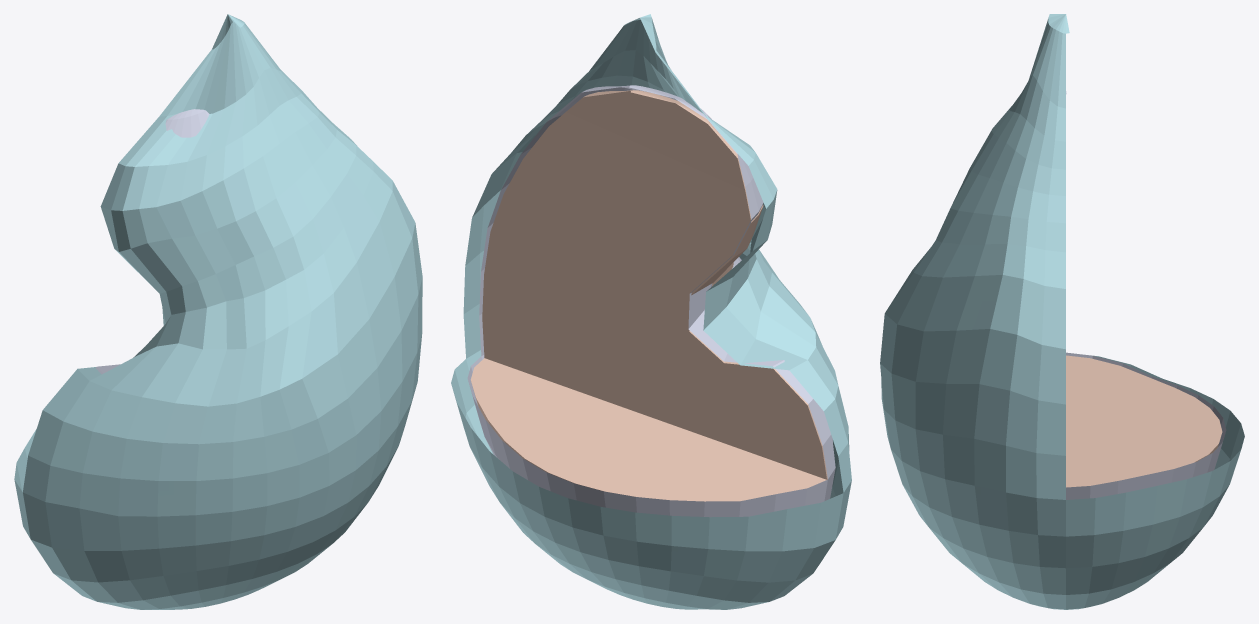
The model's file is huevito.glb.
3 views of the same model, side by side, from view 1: azimuth 30°, elevation 25°; view 2: azimuth 150°, elevation 25°; view 3: azimuth 270°, elevation 25° (orthographic). The views are drawn at different scales.
Visible parts, largest first — view 1: Sphere.013, Sphere.014; view 2: Sphere.010, Sphere.013, Sphere.014; view 3: Sphere.013, Sphere.010, Sphere.014.
Part boxes in pixels (<box>): Sphere.013: <box>14,14,422,609</box>; Sphere.014: <box>95,109,209,374</box>; Sphere.010: <box>470,90,827,501</box>; Sphere.013: <box>451,14,851,609</box>; Sphere.014: <box>467,85,835,517</box>; Sphere.013: <box>880,14,1244,609</box>; Sphere.010: <box>1066,355,1222,487</box>; Sphere.014: <box>1066,91,1226,499</box>.
Bounding box in the file's own units: 2.77 × 3.97 × 2.22.
